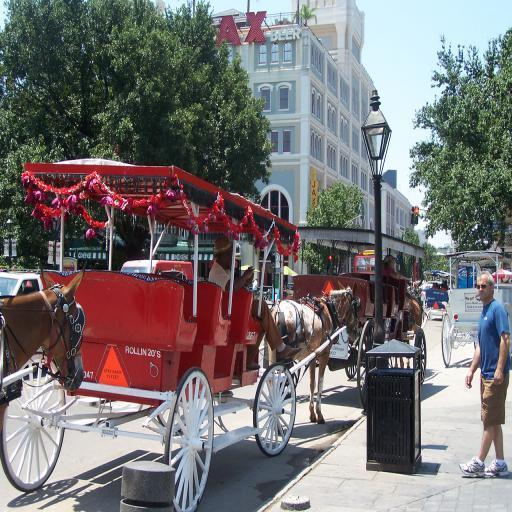horse: (0, 261, 88, 433), (266, 281, 361, 437), (408, 279, 424, 332)
